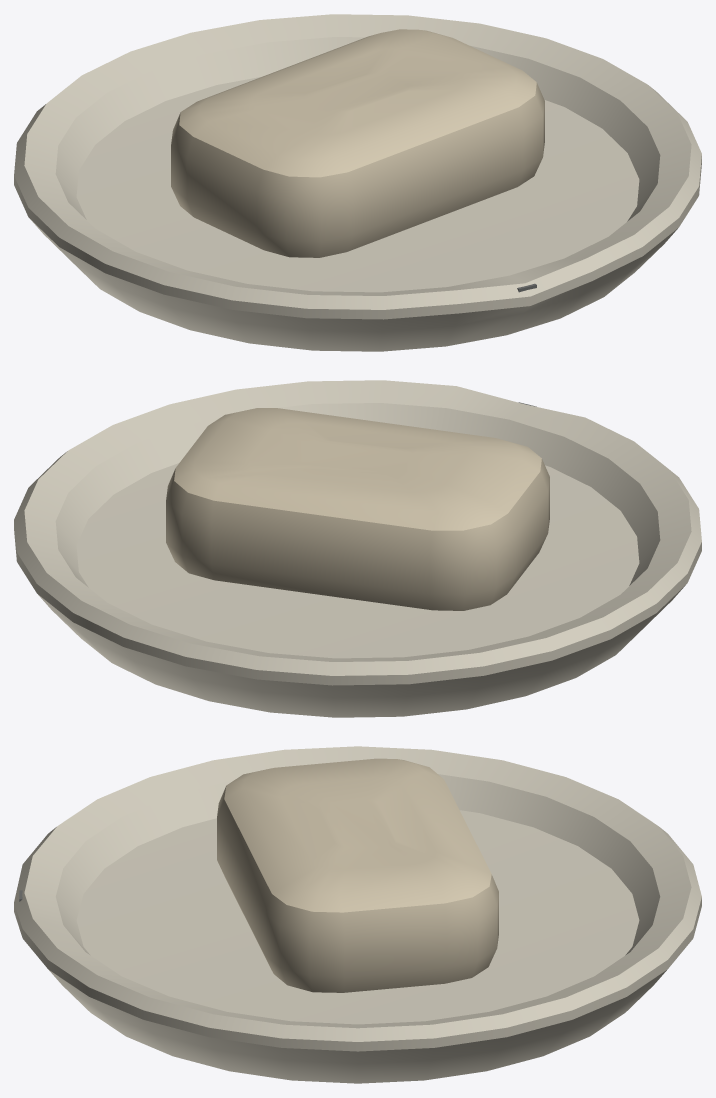
The model's file is soap-on-holder-c6079d2b157b.glb.
The picture shows the model from 3 angles, top to bottom: view 1: azimuth 30°, elevation 25°; view 2: azimuth 150°, elevation 25°; view 3: azimuth 270°, elevation 25°; orthographic projection.
Parts seen in each view (by area): view 1: enamel, paper; view 2: enamel, paper; view 3: enamel, paper.
Boxes of the visible parts, x1=… form: enamel: x1=14, y1=14, x2=701, y2=351; paper: x1=171, y1=29, x2=544, y2=257; enamel: x1=14, y1=380, x2=701, y2=717; paper: x1=166, y1=408, x2=549, y2=610; enamel: x1=14, y1=746, x2=701, y2=1083; paper: x1=217, y1=758, x2=498, y2=992.
Bounding box in the file's own units: 0.132 × 0.0318 × 0.132.
